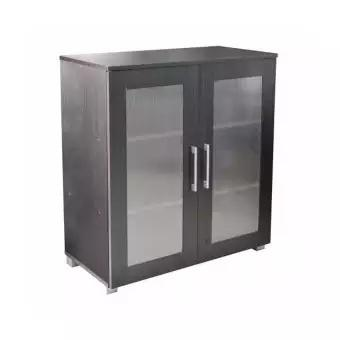cabinet_door: (117, 68, 197, 276), (200, 64, 274, 251)
handle: (190, 146, 199, 193), (203, 144, 211, 191)
